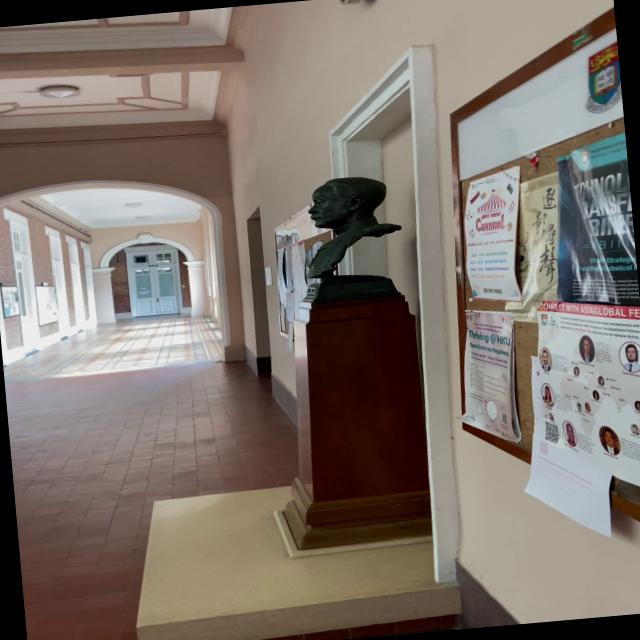statues: (282, 170, 409, 314)
